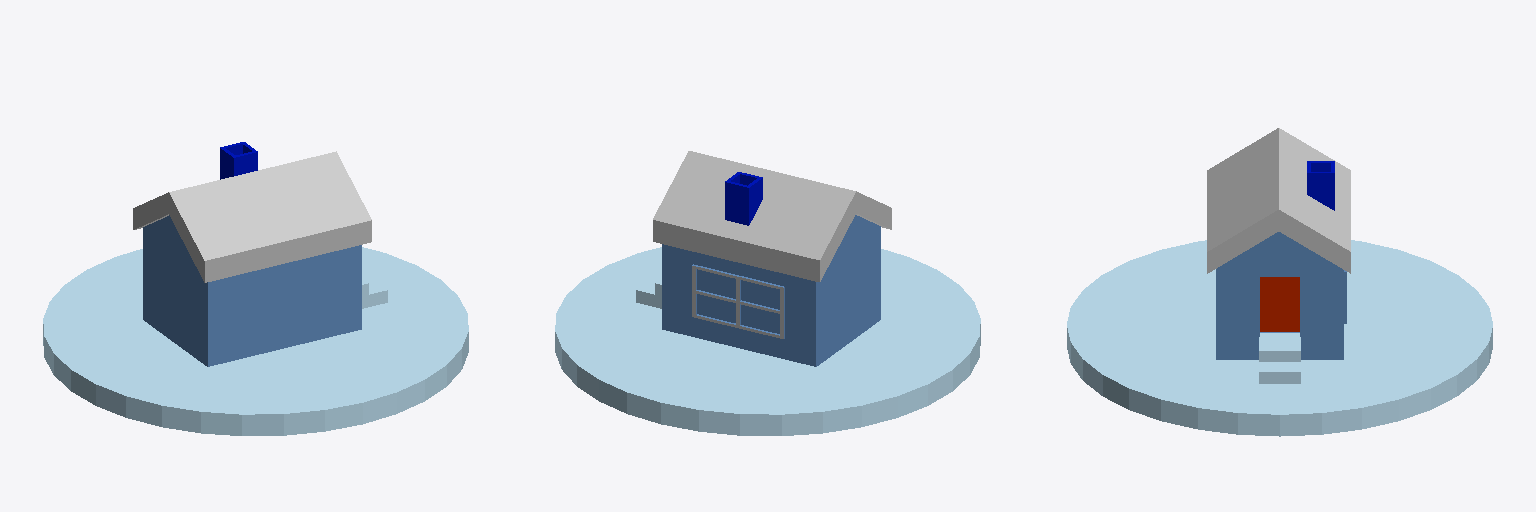
The picture shows the model from 3 angles: view 1: azimuth 30°, elevation 25°; view 2: azimuth 150°, elevation 25°; view 3: azimuth 270°, elevation 25°; orthographic projection.
Visible parts, largest first — view 1: 円, 立方体, 立方体.001, 立方体.002; view 2: 円, 立方体, 立方体.001, 立方体.002; view 3: 円, 立方体.001, 立方体, 立方体.003, 立方体.002, 立方体.004.
Part boxes in pixels (x1,y1,x2,y2): 円: (43,247,468,435); 立方体: (143,215,361,366); 立方体.001: (133,151,371,282); 立方体.002: (220,142,257,179); 円: (555,247,980,435); 立方体: (662,215,880,366); 立方体.001: (653,151,891,281); 立方体.002: (725,172,762,225); 円: (1067,240,1492,436); 立方体.001: (1207,128,1350,273); 立方体: (1216,232,1346,359); 立方体.003: (1259,333,1300,361); 立方体.002: (1307,161,1334,210); 立方体.004: (1259,362,1300,383).
Bounding box in the file's own units: 6.66 × 3.11 × 6.66.
Materials: 6 (1 with a texture image).